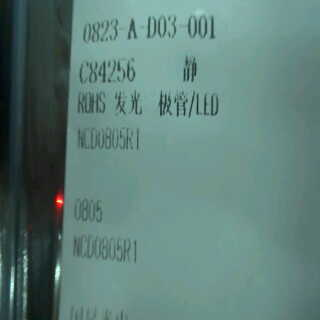LED: (108, 86, 222, 122)
